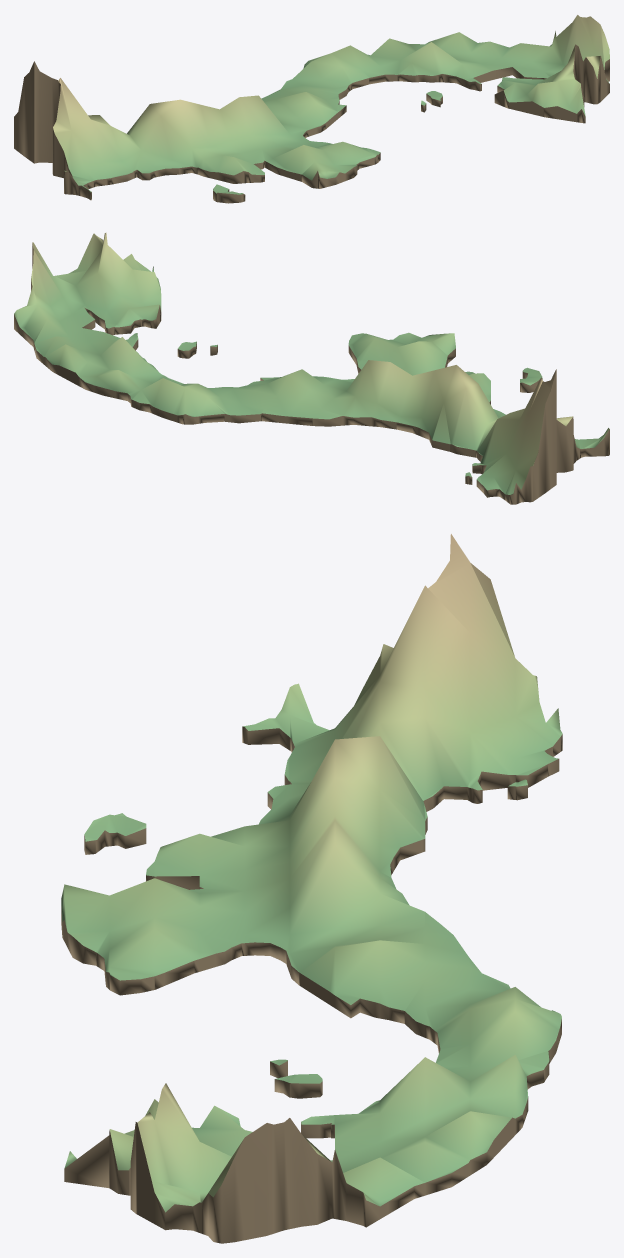
Rendered from PAN.glb.
3 views of the same model, one above another, from view 1: azimuth 30°, elevation 25°; view 2: azimuth 150°, elevation 25°; view 3: azimuth 270°, elevation 25° (orthographic). The views are drawn at different scales.
Visible parts, largest first — view 1: PAN; view 2: PAN; view 3: PAN.
Boxes of the visible parts, x1=… form: PAN: x1=14, y1=15, x2=609, y2=203; PAN: x1=14, y1=232, x2=609, y2=504; PAN: x1=61, y1=534, x2=562, y2=1243.
Bounding box in the file's own units: 1.82 × 0.338 × 0.7505.
